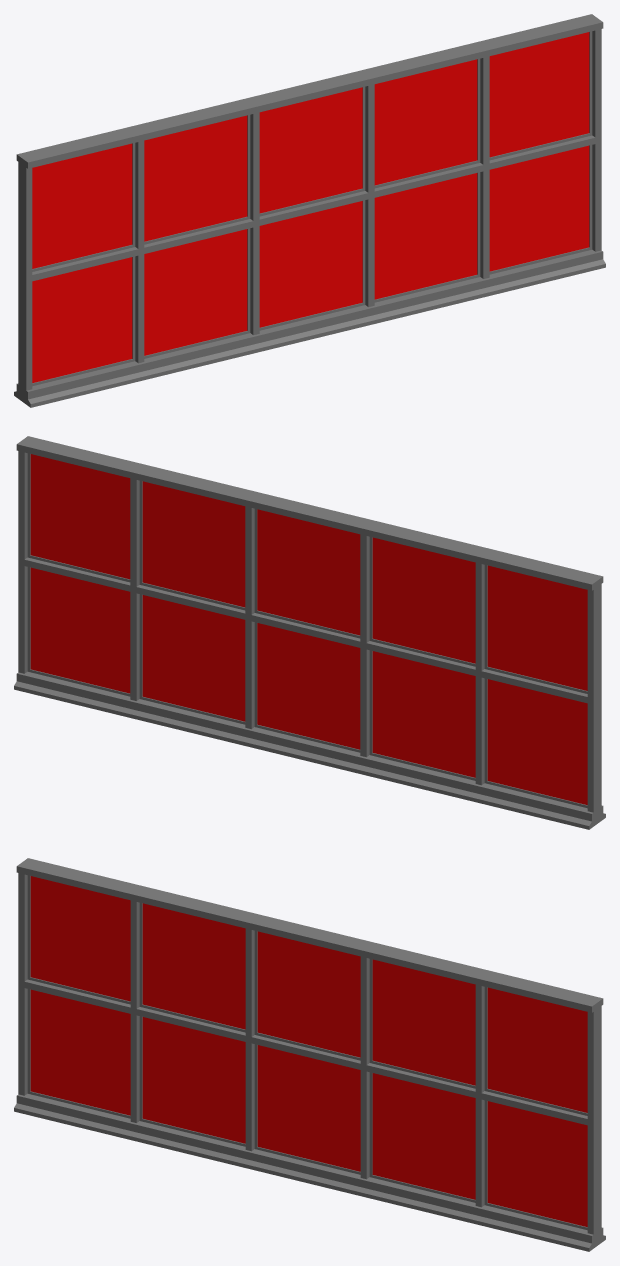
Rendered from Window05.fbx.
The picture shows the model from 3 angles, top to bottom: view 1: azimuth 30°, elevation 25°; view 2: azimuth 150°, elevation 25°; view 3: azimuth 330°, elevation 25°; orthographic projection.
Visible parts, largest first — view 1: Window05; view 2: Window05; view 3: Window05.
Boxes of the visible parts, box(x1,y1,x2,y2) form: Window05: box(14, 14, 605, 407); Window05: box(14, 436, 605, 829); Window05: box(14, 858, 605, 1251).
Size of the model in its own units: 238 by 96 by 12.
